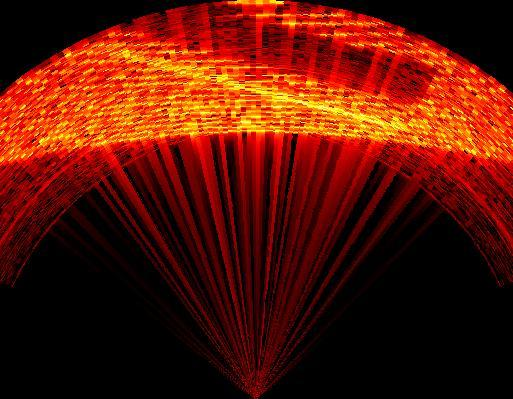pipe: (89, 8, 446, 130)
